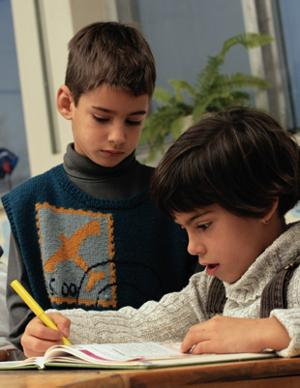person: (21, 106, 299, 359)
